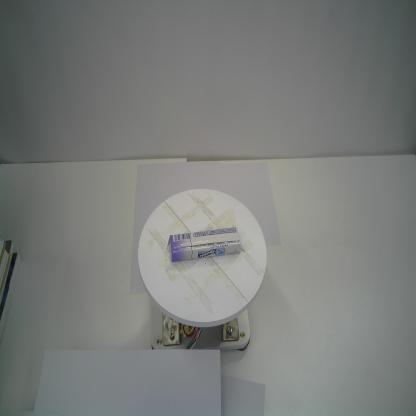Candy: (166, 225, 242, 263)
